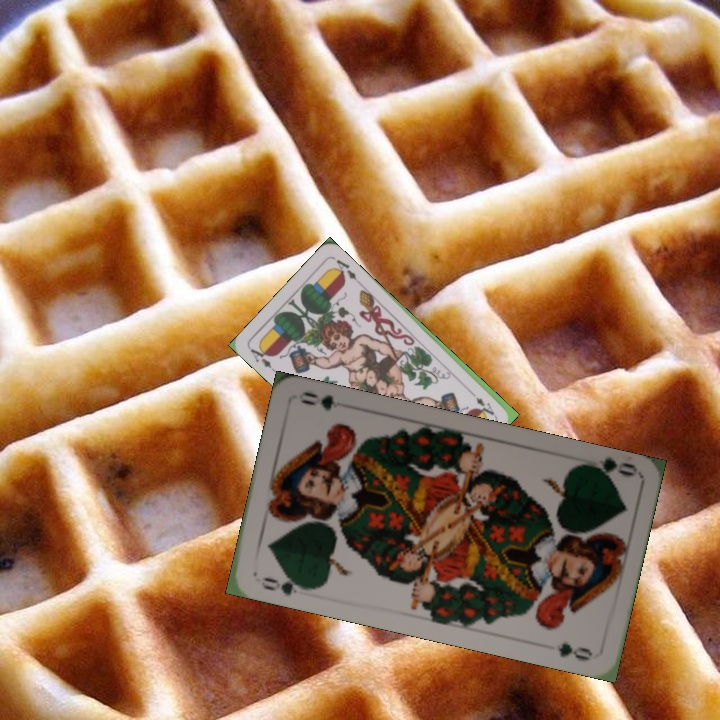EA: (246, 342, 279, 375), (464, 386, 497, 418)
GO: (578, 454, 638, 483), (257, 570, 312, 599)
